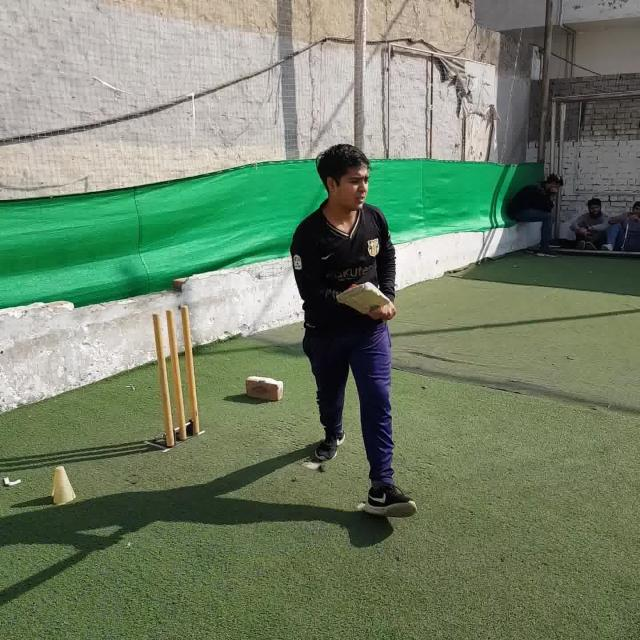bat: (339, 281, 388, 315)
